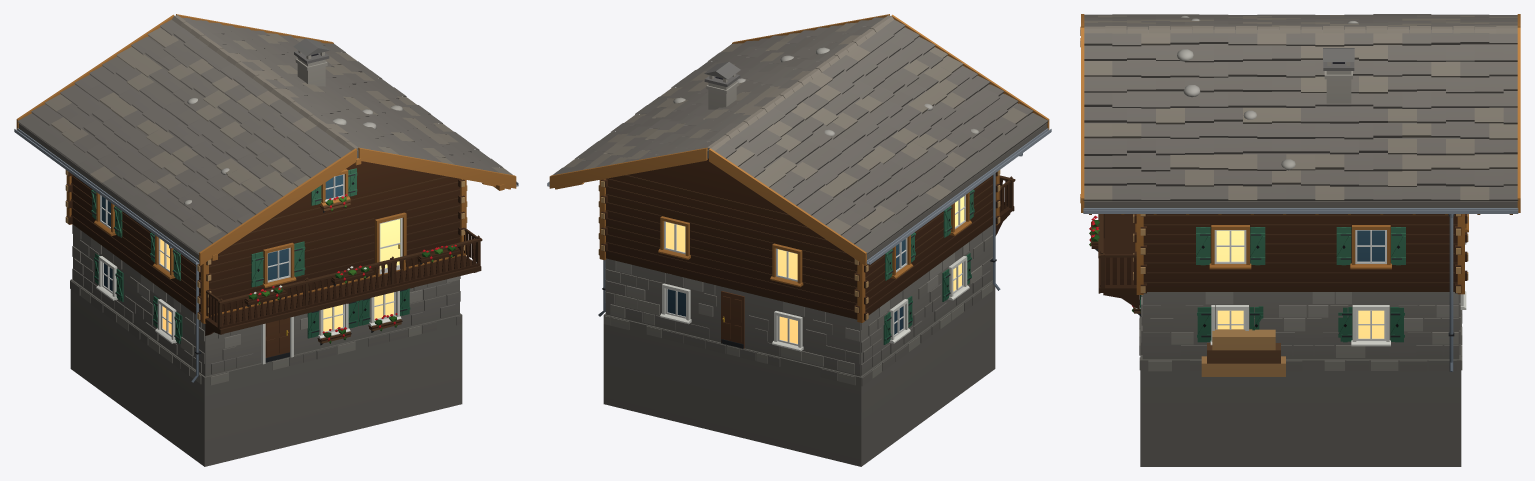
The model's file is Chalet_A.fbx.
3 views of the same model, side by side, from view 1: azimuth 30°, elevation 25°; view 2: azimuth 150°, elevation 25°; view 3: azimuth 270°, elevation 25° (orthographic). The views are drawn at different scales.
Parts seen in each view (by area): view 1: Chalet_A_LOD0; view 2: Chalet_A_LOD0; view 3: Chalet_A_LOD0.
Part boxes in pixels (x1,y1,x2,y2): Chalet_A_LOD0: [14, 14, 518, 466]; Chalet_A_LOD0: [547, 14, 1051, 466]; Chalet_A_LOD0: [1080, 14, 1520, 466].
Size of what is drawn, in the model's own units: 12.68 by 11.88 by 12.52.
1 material, 1 textured.
